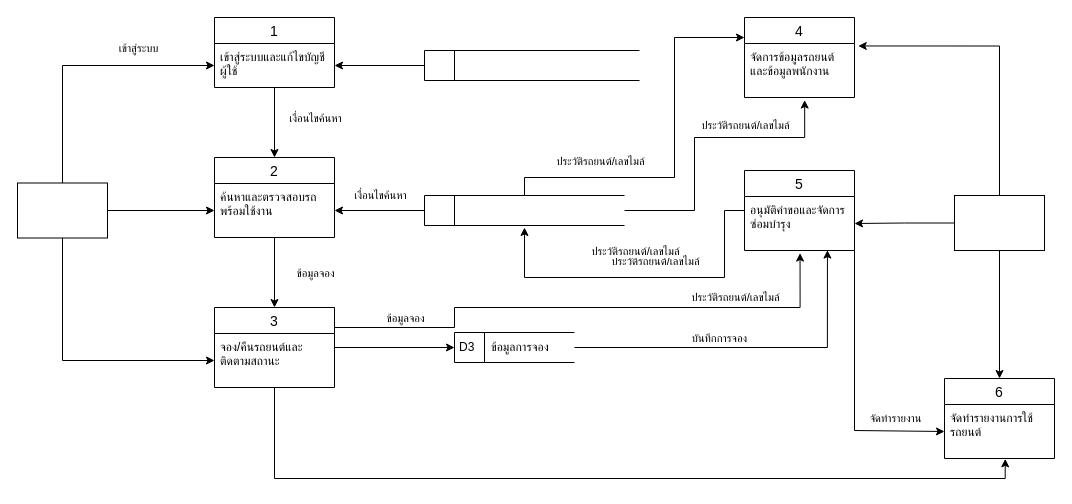
The diagram is 1072 pixels wide and 504 high, and some of its shapes have lost their labels. The centre of each missing label's shape, as x and y in pixels:
D1 ข้อมูลพนักงานและสิทธิ์การใช้งาน: pixel 532 65
D2 ข้อมูลรถยนต์และการบำรุงรักษา: pixel 524 210
ผู้ดูแลระบบ / Admin: pixel 999 222
พนักงาน/สมาชิกระบบ: pixel 62 210
